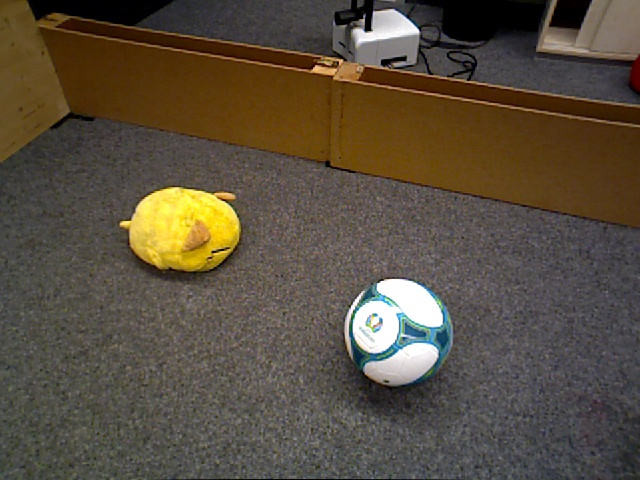grasp: (130, 187, 242, 274)
kick: (342, 276, 453, 388)
